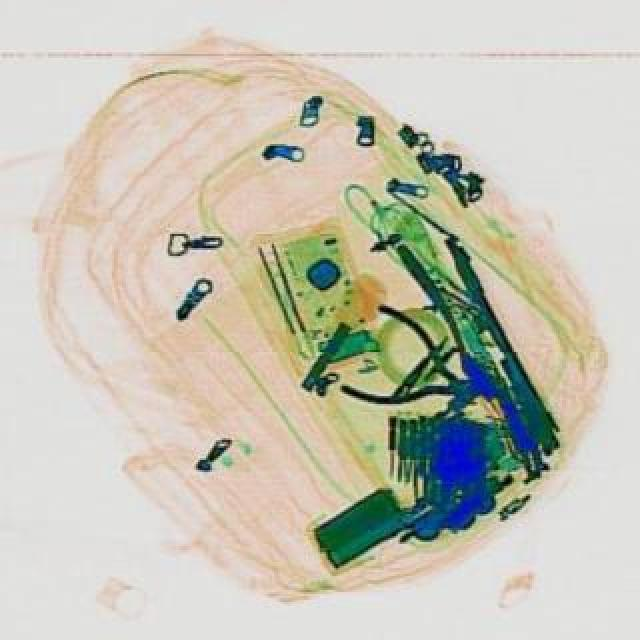wrench: (334, 300, 498, 434)
